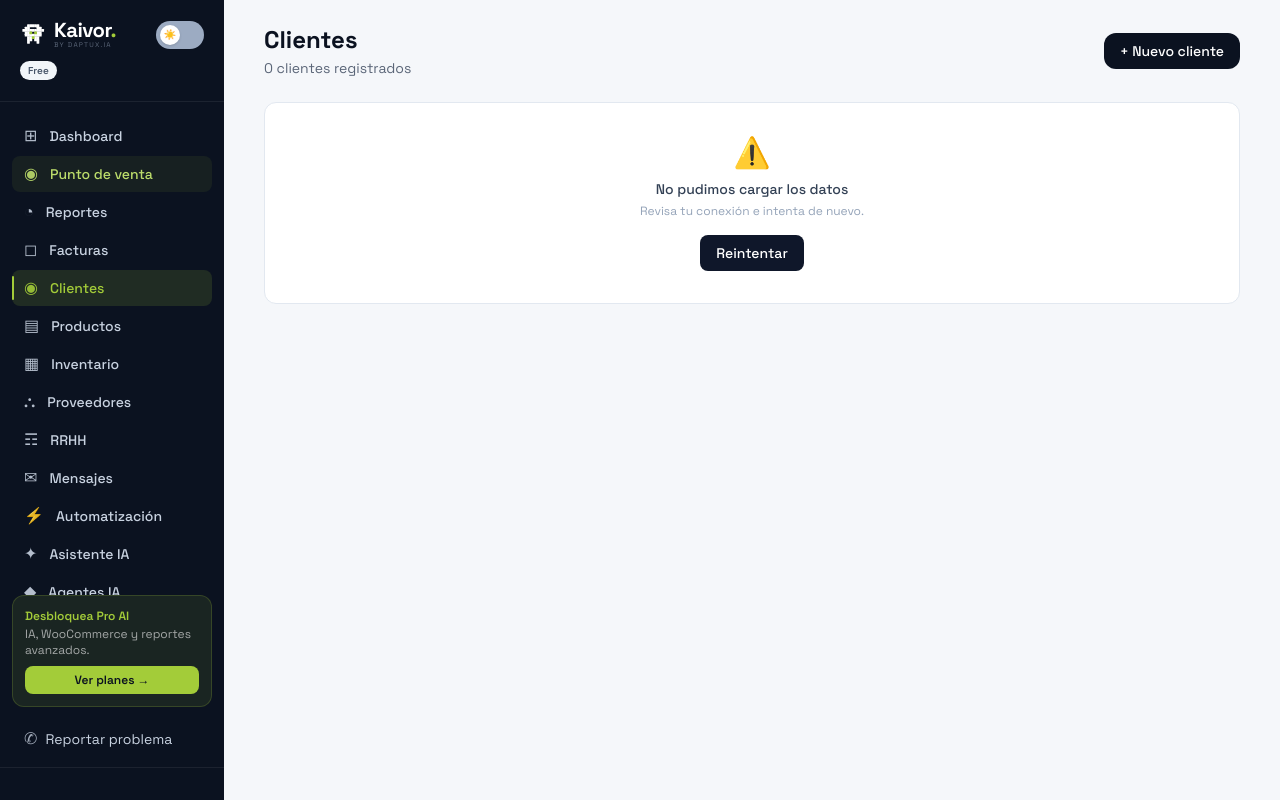
Test: Clientes › abre el formulario de nuevo cliente
The width and height of the screenshot is (1280, 800).
Click the button "+ Nuevo cliente".
click(1172, 51)  # box [1104,33,1240,69]
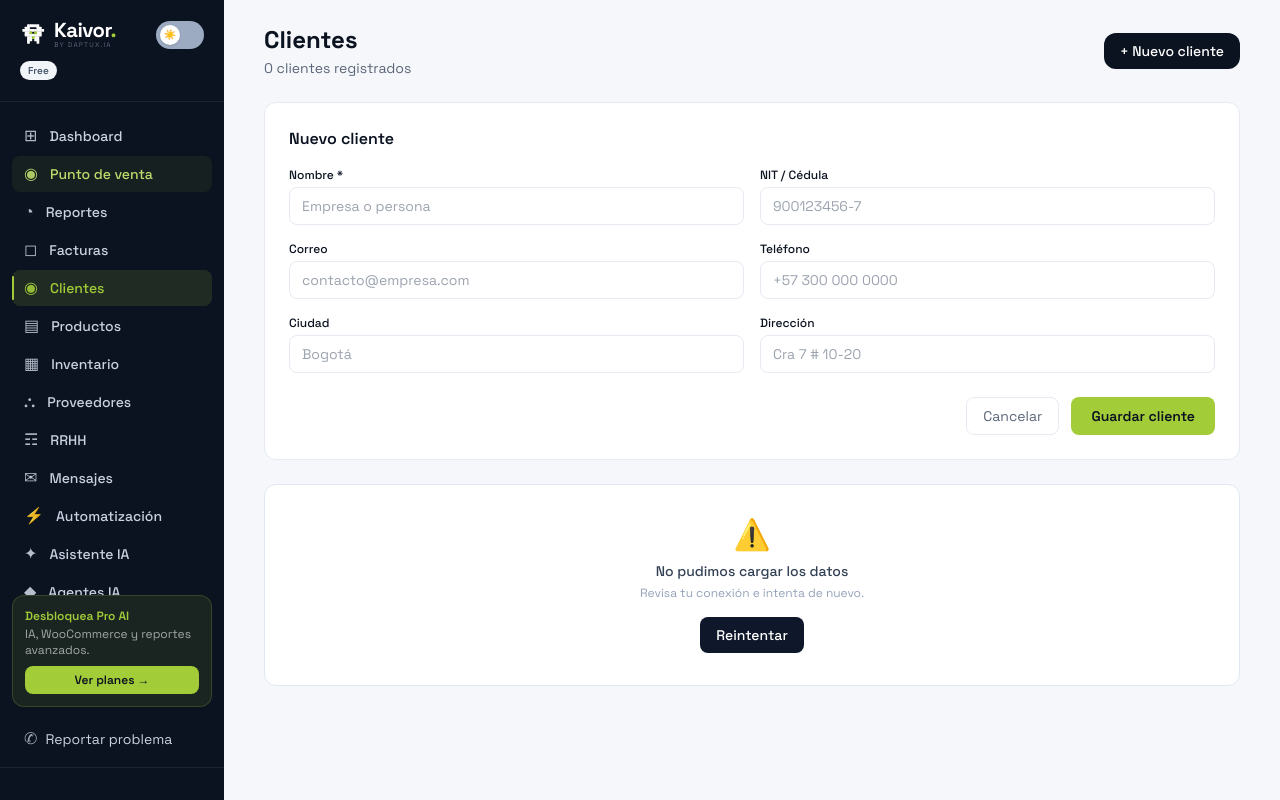
Check: the text "Nombre" is shown, box [289,167,343,183]
Check: the text "NIT" is shown, box [760,167,828,183]
Check: the text "Correo" is shown, box [289,241,328,257]
